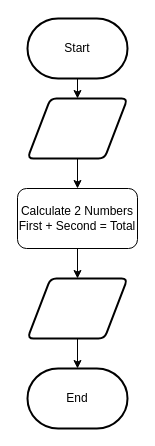
Image size: 155x446. Some labels were removed from this diagram. The box of each missing label's shape, as (x1, y1, x2, y2) in pixels:
Get 2 Numbers: (26, 97, 128, 159)
Show Total: (26, 277, 128, 339)
